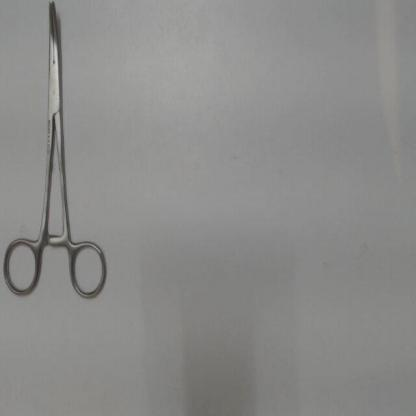Crile Artery Forceps: (0, 2, 114, 303)
